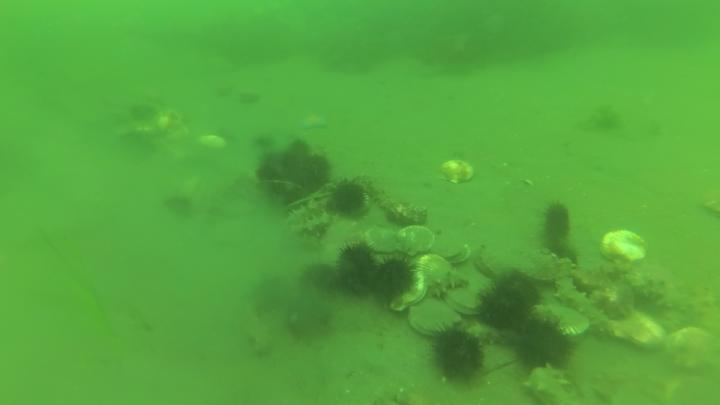echinus: (431, 325, 486, 382), (514, 318, 572, 371), (479, 286, 529, 330), (371, 256, 417, 300), (338, 241, 378, 291), (494, 271, 539, 310), (541, 200, 573, 246), (330, 179, 367, 217)
holothurian: (524, 362, 586, 405), (554, 273, 602, 320), (296, 186, 332, 241), (426, 269, 472, 301), (358, 175, 397, 210), (465, 322, 516, 348)
scallop: (666, 325, 720, 376), (608, 310, 666, 350), (408, 299, 464, 340), (534, 304, 591, 342), (598, 228, 648, 266), (514, 246, 563, 284), (387, 270, 429, 313), (394, 223, 438, 259), (474, 242, 515, 280), (416, 253, 453, 288), (429, 238, 472, 265), (446, 288, 485, 317), (363, 224, 400, 254), (439, 160, 478, 187)
